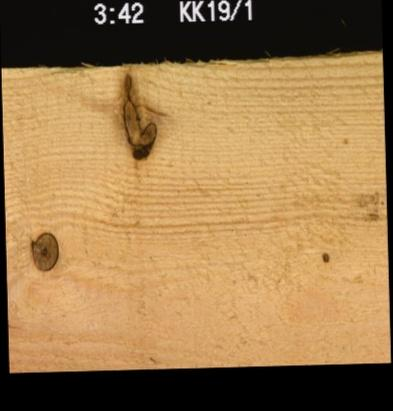dry_knot: (27, 229, 58, 271)
small_knot: (318, 248, 330, 263)
